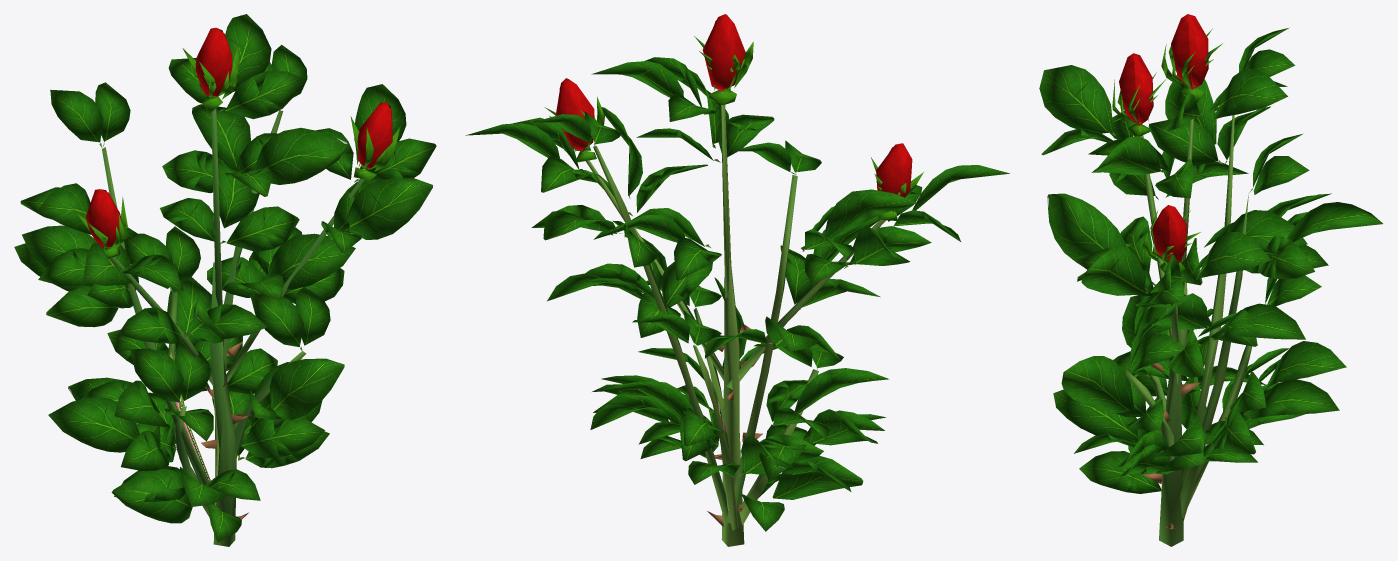
The model's file is NP_Rose_BudForming_LOD1.fbx.
3 views of the same model, side by side, from view 1: azimuth 30°, elevation 25°; view 2: azimuth 150°, elevation 25°; view 3: azimuth 270°, elevation 25° (orthographic). The views are drawn at different scales.
Visible parts, largest first — view 1: NP_Rose_BudForming; view 2: NP_Rose_BudForming; view 3: NP_Rose_BudForming.
Boxes of the visible parts, x1,y1,x2,y2 form: NP_Rose_BudForming: (14,14,436,546); NP_Rose_BudForming: (465,14,1009,546); NP_Rose_BudForming: (1039,14,1382,546).
Bounding box in the file's own units: 69.82 × 82.01 × 48.51.
